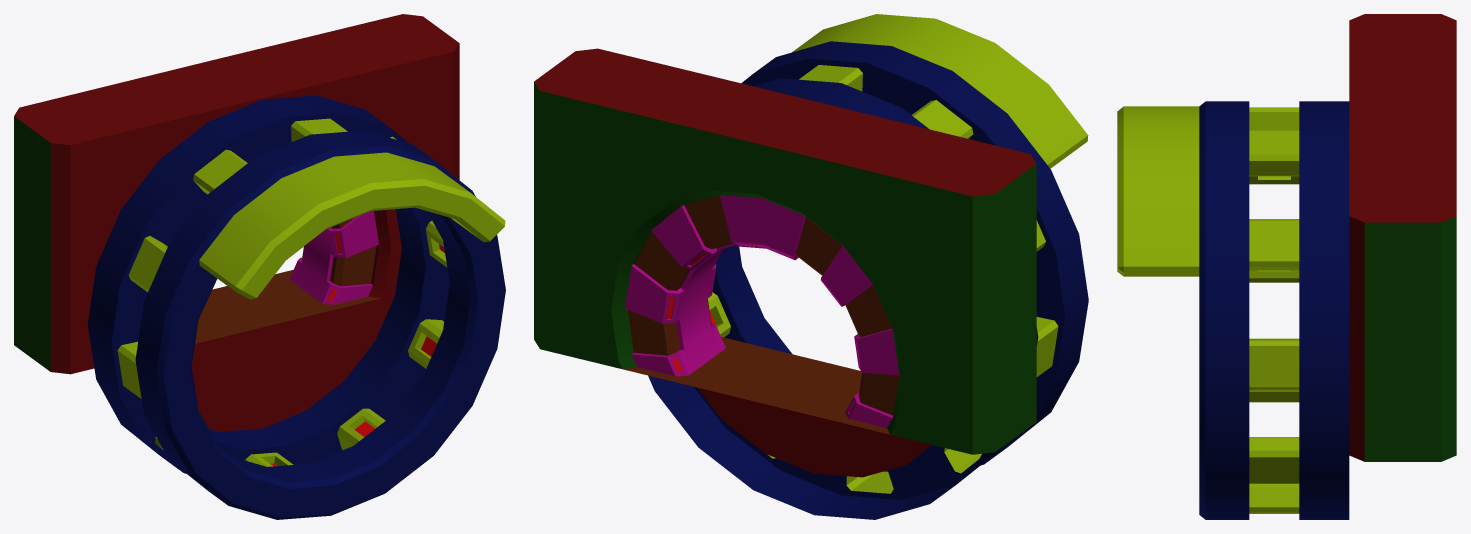
Rendered from OBJ_SF_Cadre_Porte.fbx.
3 renders of one model, left to right at view 1: azimuth 30°, elevation 25°; view 2: azimuth 150°, elevation 25°; view 3: azimuth 270°, elevation 25°, orthographic. The views are drawn at different scales.
Visible parts, largest first — view 1: OBJ_SF_Cadre_Porte; view 2: OBJ_SF_Cadre_Porte; view 3: OBJ_SF_Cadre_Porte.
Boxes of the visible parts, box(x1,y1,x2,y2) form: OBJ_SF_Cadre_Porte: box(14, 14, 505, 519); OBJ_SF_Cadre_Porte: box(534, 14, 1088, 519); OBJ_SF_Cadre_Porte: box(1117, 14, 1456, 519).
Bounding box in the file's own units: 14 × 12.02 × 9.63.
